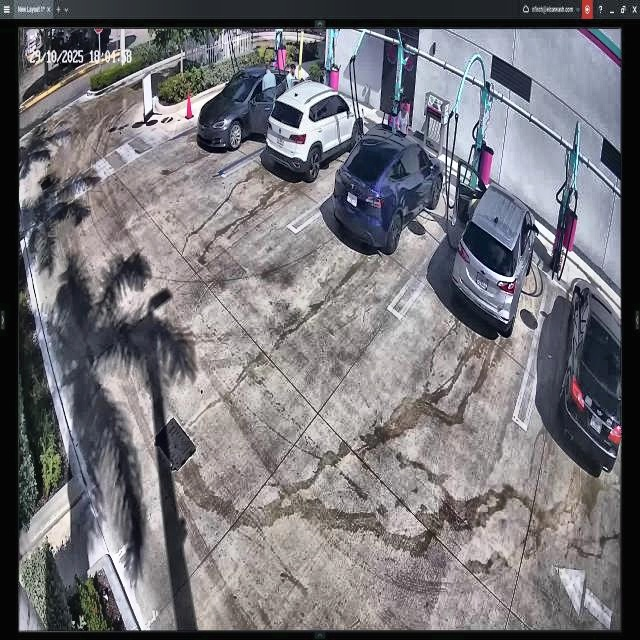Car: (450, 157, 529, 331), (335, 122, 443, 249), (263, 77, 365, 181), (199, 66, 295, 153)
